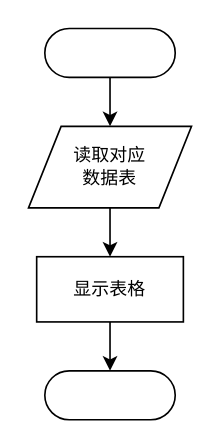
The diagram is 220 pixels wide and 448 high, and some of its shapes have lost their labels. Here are the shapes that lost their labels. From the top down, the centre of each, then its label:
the point at 109,52: 开始
the point at 109,394: 结束
